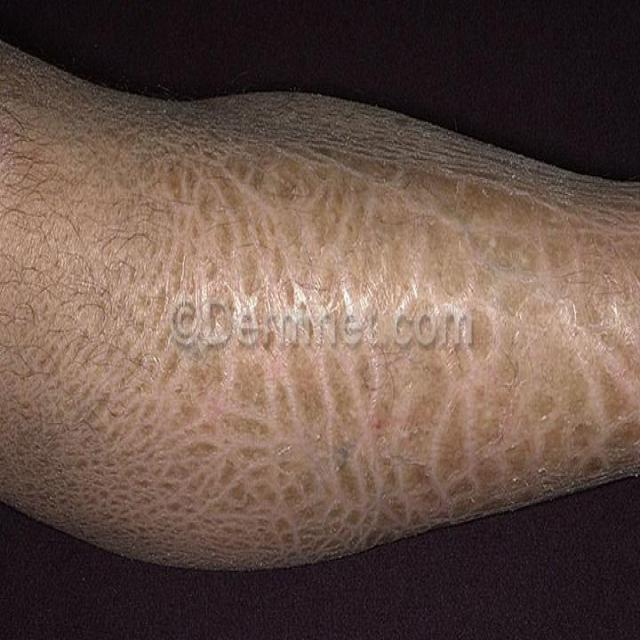liquenificacion 1: (0, 36, 639, 571)
liquenificacion 2: (0, 36, 639, 571)
